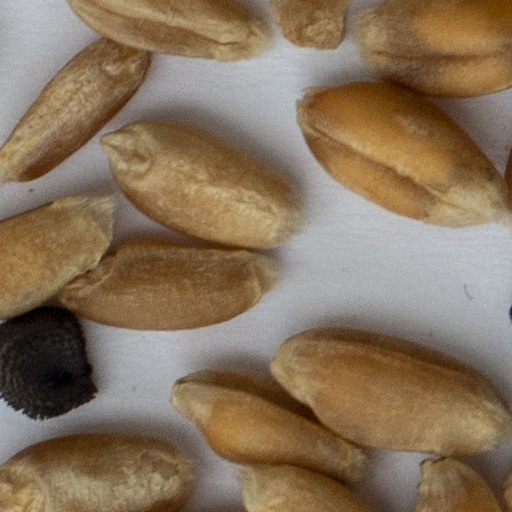Agrostemma-poly: (0, 307, 92, 417)
Wheat-grain-damaged-poly: (272, 0, 346, 49)
